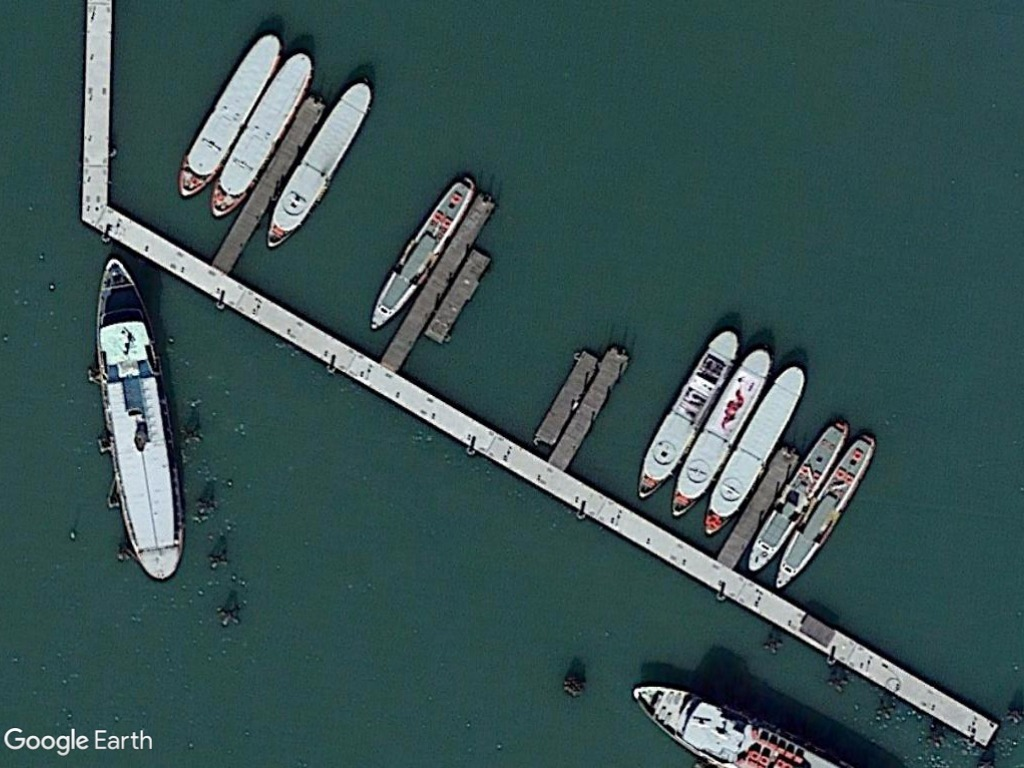boat: (92, 254, 191, 584), (688, 362, 816, 537), (259, 71, 381, 253), (169, 25, 287, 209), (664, 336, 779, 523), (631, 322, 745, 508), (203, 46, 319, 224), (772, 431, 883, 594), (744, 414, 851, 580)
